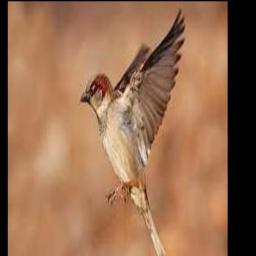Sparrow: (79, 7, 185, 256)
